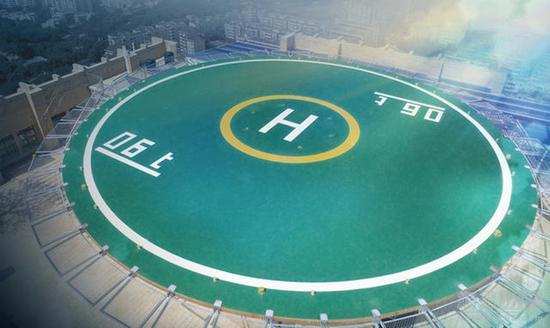Apron: (216, 93, 362, 164)
